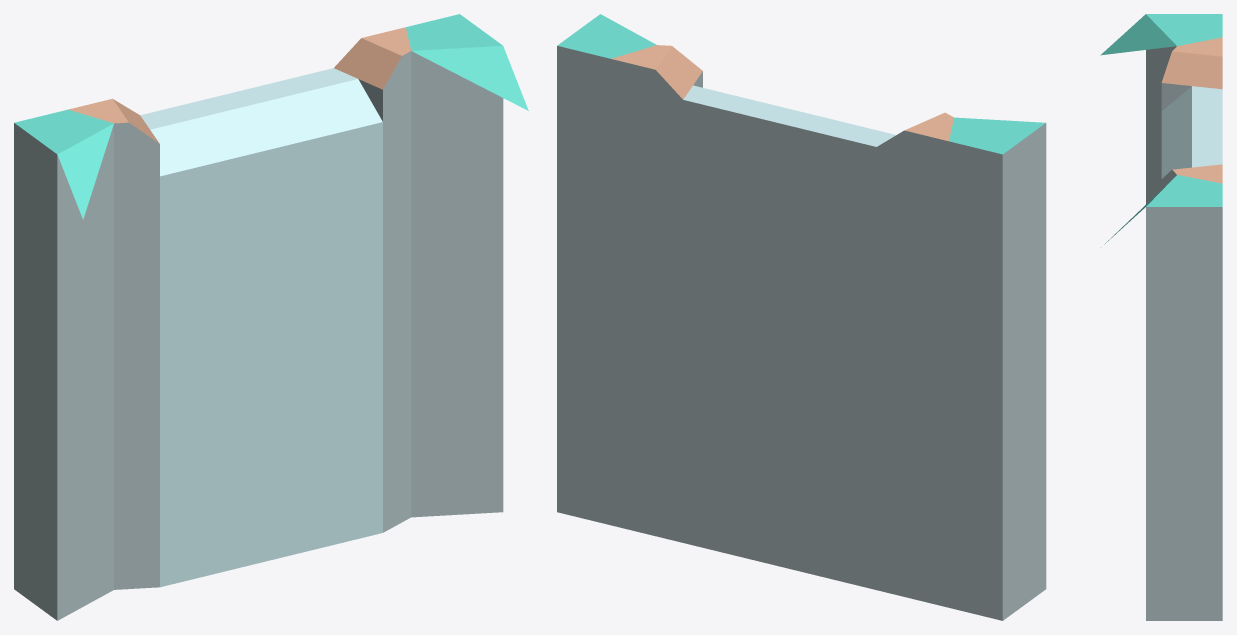
The picture shows the model from 3 angles, left to right: view 1: azimuth 30°, elevation 25°; view 2: azimuth 150°, elevation 25°; view 3: azimuth 270°, elevation 25°; orthographic projection. The views are drawn at different scales.
Parts seen in each view (by area): view 1: cliff_waterfallTop_stone; view 2: cliff_waterfallTop_stone; view 3: cliff_waterfallTop_stone.
Part boxes in pixels (x1,y1,x2,y2): cliff_waterfallTop_stone: (14,14,528,620); cliff_waterfallTop_stone: (557,14,1046,620); cliff_waterfallTop_stone: (1100,14,1222,620).
Size of the model in its own units: 1 by 1 by 0.2685.
